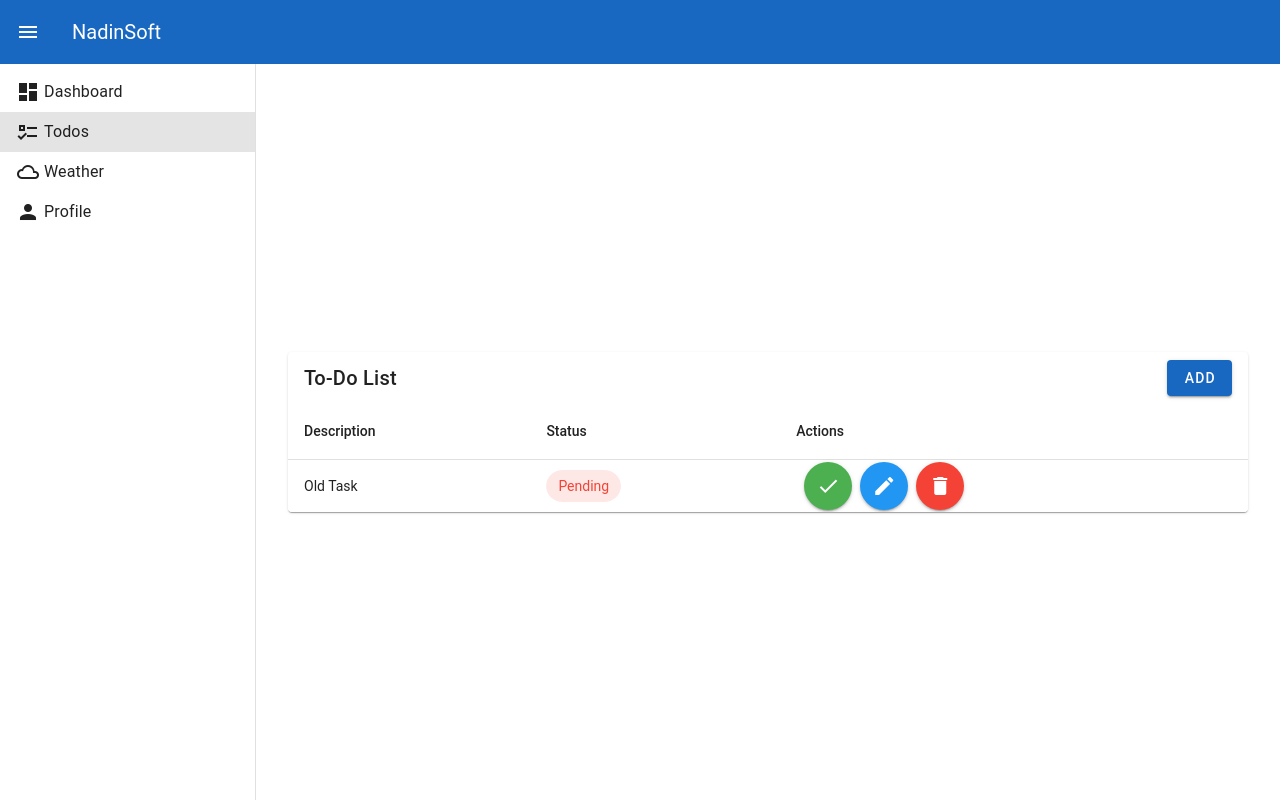
it: To-Do List Page › should edit an existing task
This screenshot has width=1280, height=800.
Click the button with test id "edit-btn" at coordinates (884, 486), box left=860, top=462, right=908, bottom=510
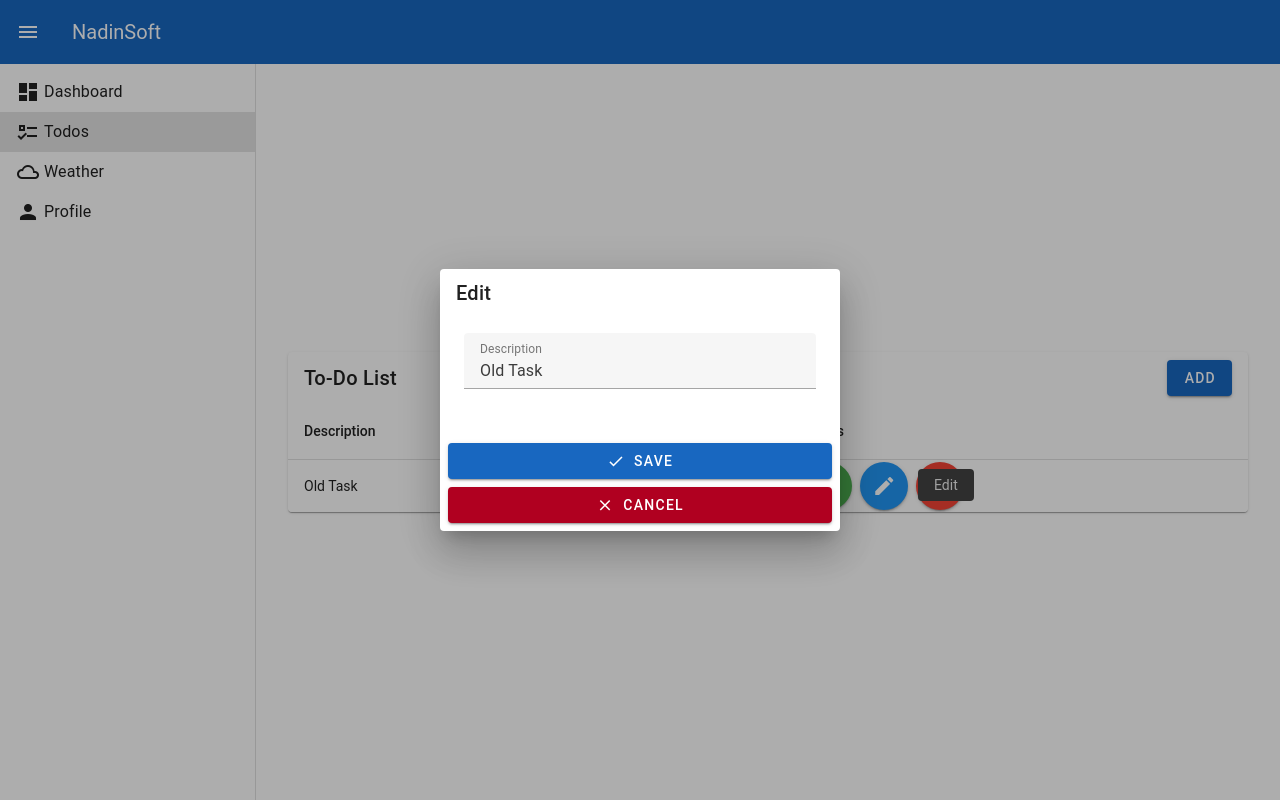
Replace the text in the field labelled "Description" with "Updated Task" at coordinates (640, 361), box left=464, top=333, right=816, bottom=389
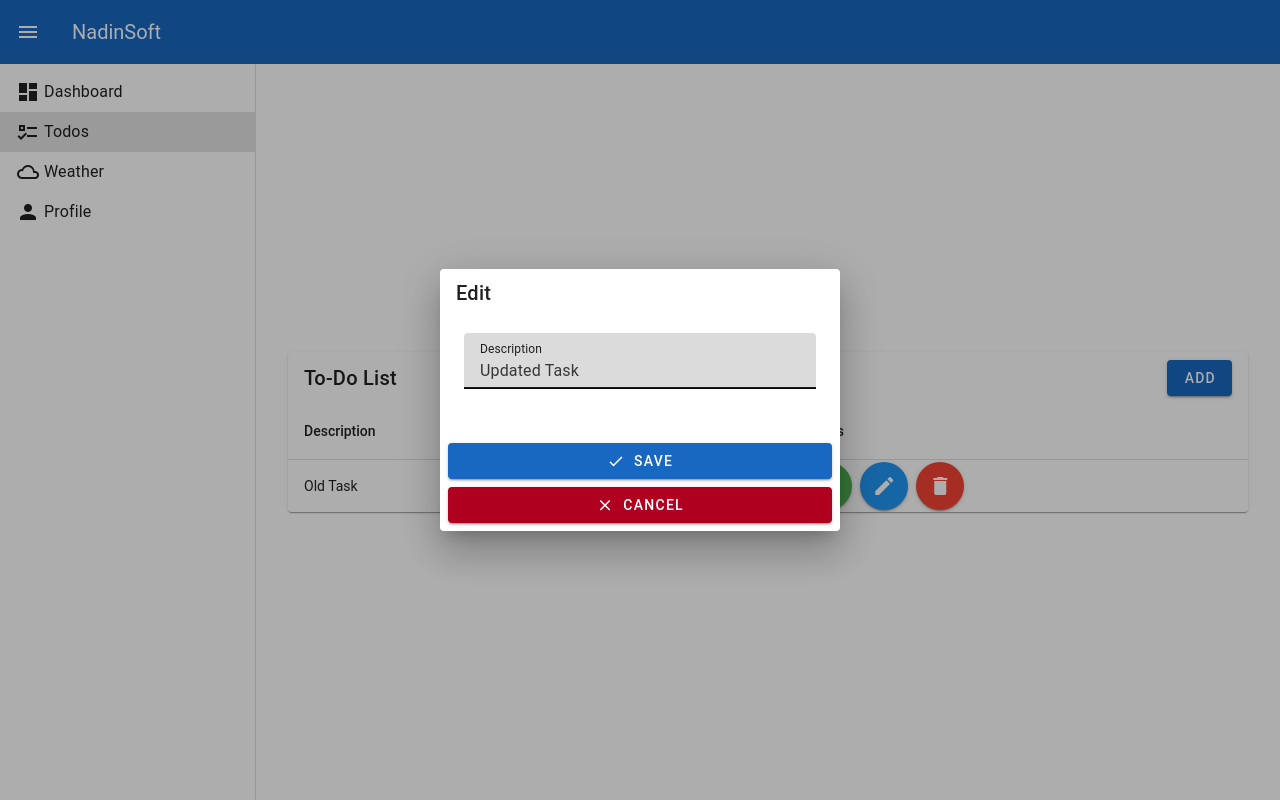
Click the button "Save" at coordinates (640, 461), box left=448, top=443, right=832, bottom=479
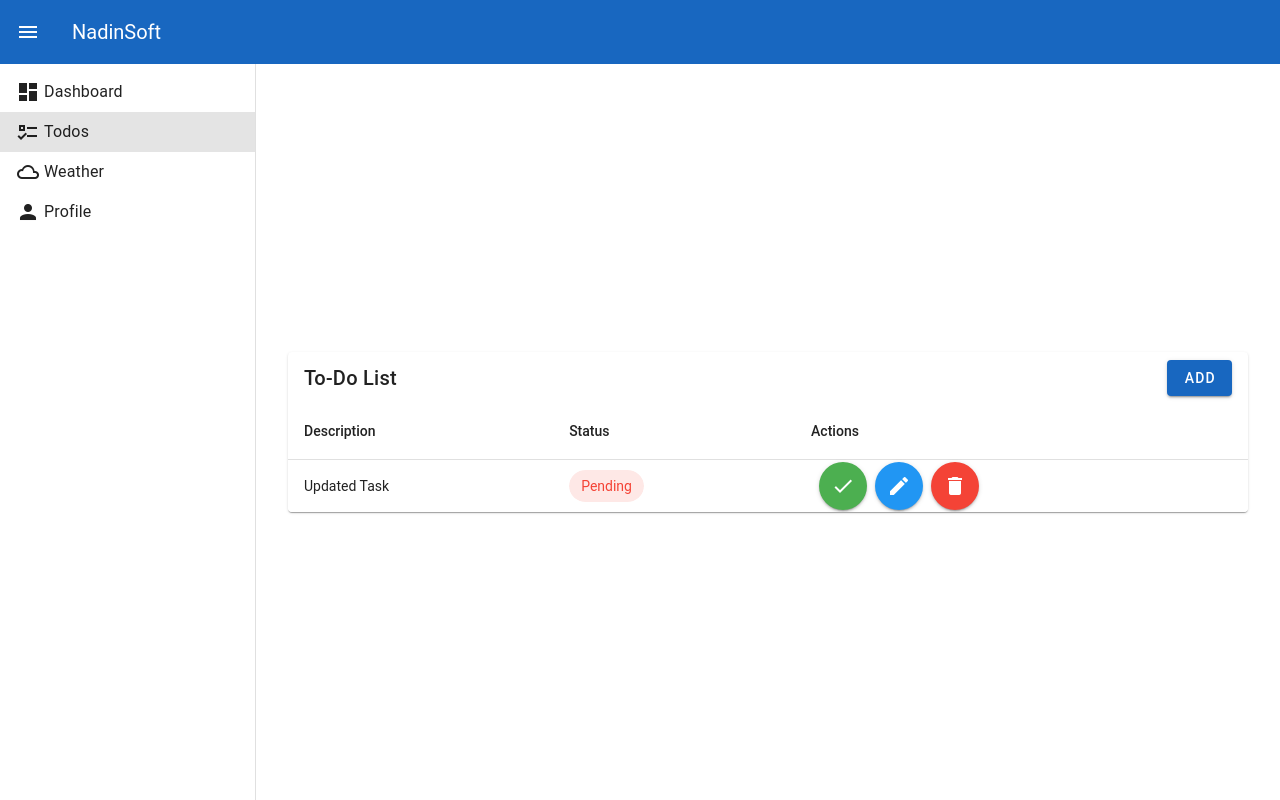
expect the text "Updated Task" is shown: met, box left=288, top=460, right=553, bottom=512
